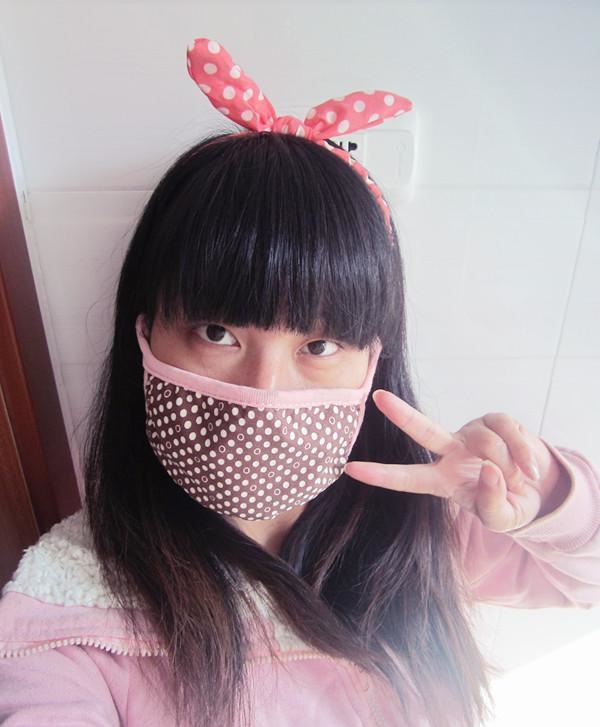face_mask: (155, 219, 370, 539)
